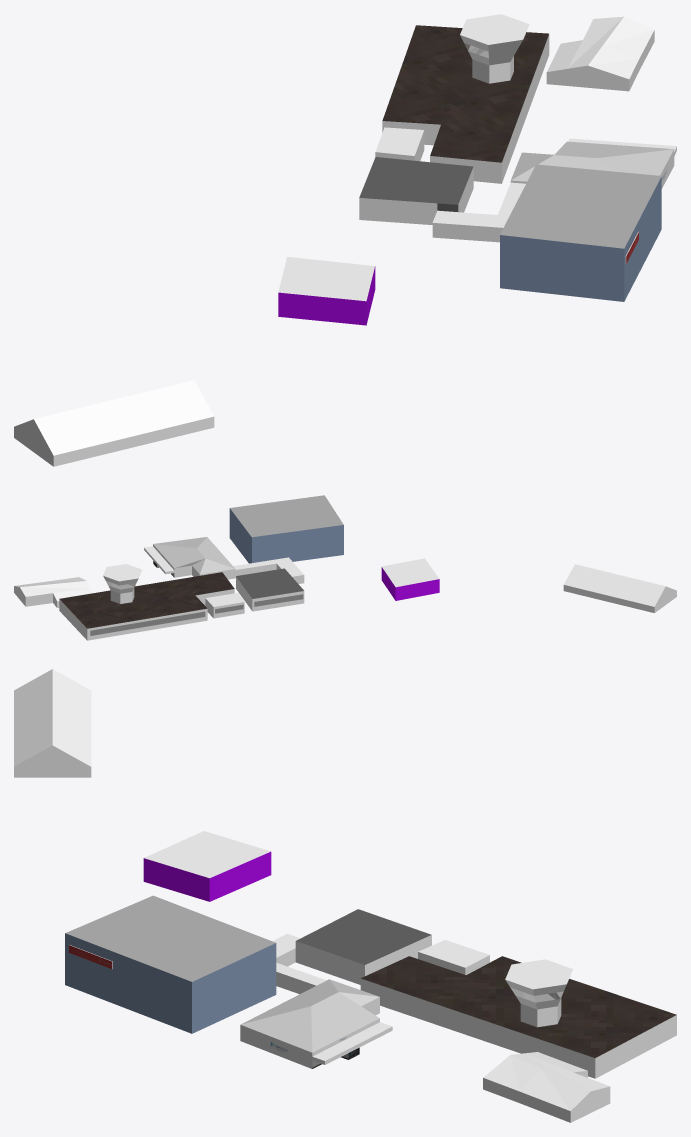
Rendered from EGTE_GeoFS_1_no_ground.glb.
3 views of the same model, one above another, from view 1: azimuth 30°, elevation 25°; view 2: azimuth 150°, elevation 25°; view 3: azimuth 270°, elevation 25° (orthographic). The views are drawn at different scales.
Visible parts, largest first — view 1: Root Node; view 2: Root Node; view 3: Root Node.
Part boxes in pixels (x1=…): Root Node: x1=14, y1=14, x2=676, y2=466; Root Node: x1=14, y1=495, x2=676, y2=640; Root Node: x1=14, y1=669, x2=676, y2=1122.
Bounding box in the file's own units: 1364 × 97.84 × 906.
Materials: 179 (12 with a texture image).
